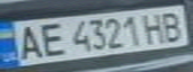1: (121, 12, 145, 47)
2: (103, 15, 127, 49)
3: (87, 16, 109, 52)
4: (66, 17, 90, 53)
A: (9, 22, 45, 61)
B: (157, 8, 190, 43)
E: (33, 20, 69, 58)
H: (139, 10, 172, 45)
